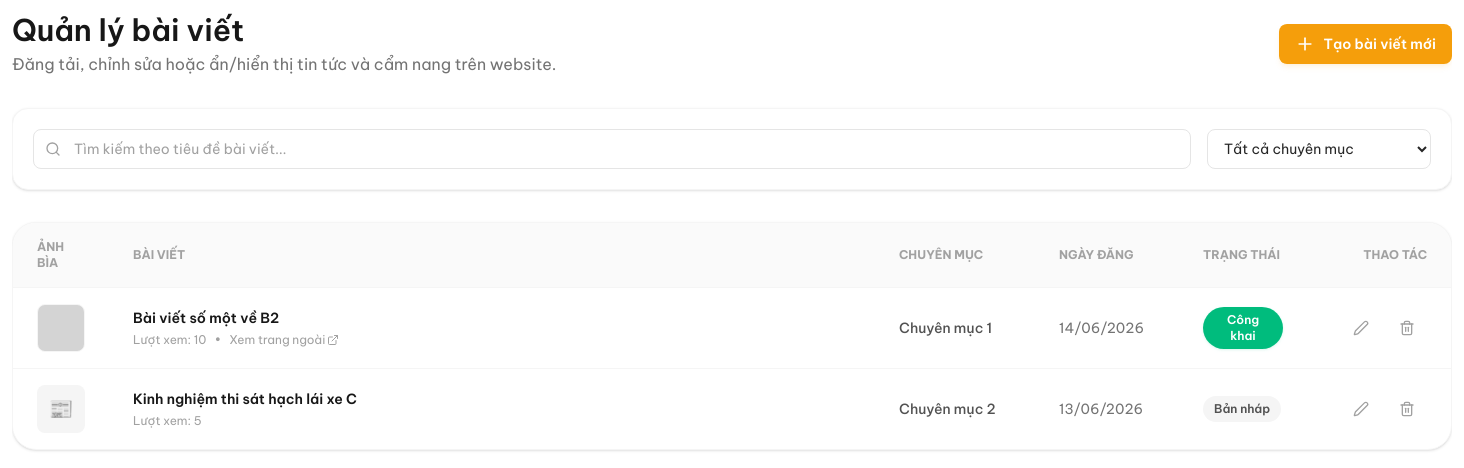
Test case: AdminNewsPage Component › [HAPPY PATH] nên lọc danh sách bài viết theo chuyên mục (category filter)
The image size is (1464, 468).
Expected: the link "Bài viết số một về B2" is shown, [133, 309, 279, 327]
// Lọc theo Chuyên mục 1 (cat-1)
Select "Chuyên mục 1" in the dropdown. click: [1319, 149]
box: [1207, 129, 1431, 169]
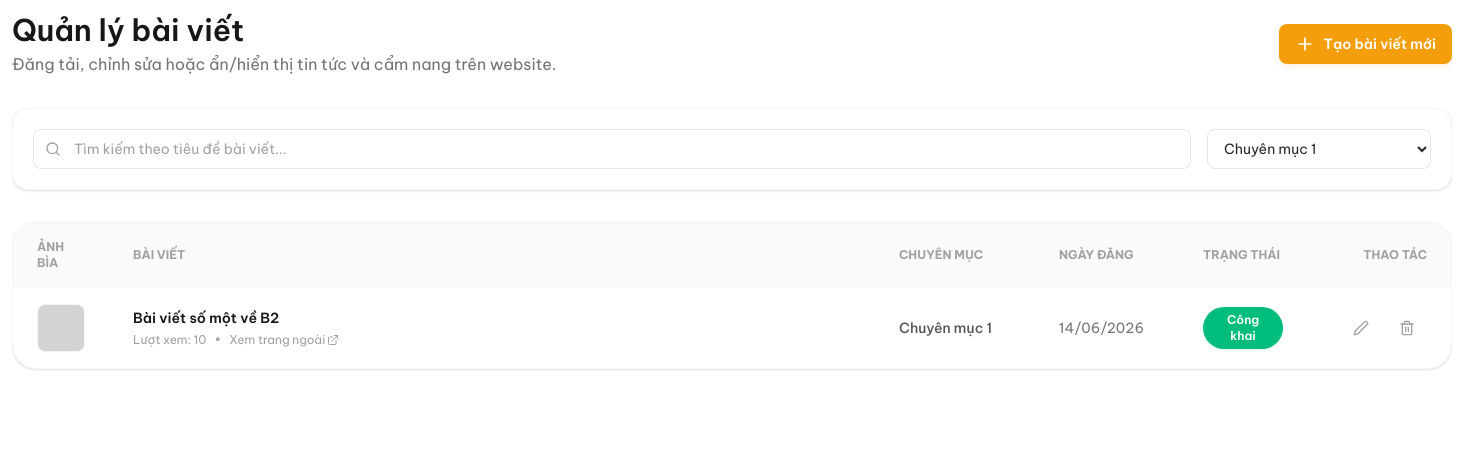
Expected: the link "Bài viết số một về B2" is shown, [133, 309, 279, 327]
Expected: the link "Kinh nghiệm thi sát hạch lái xe C" is gone
